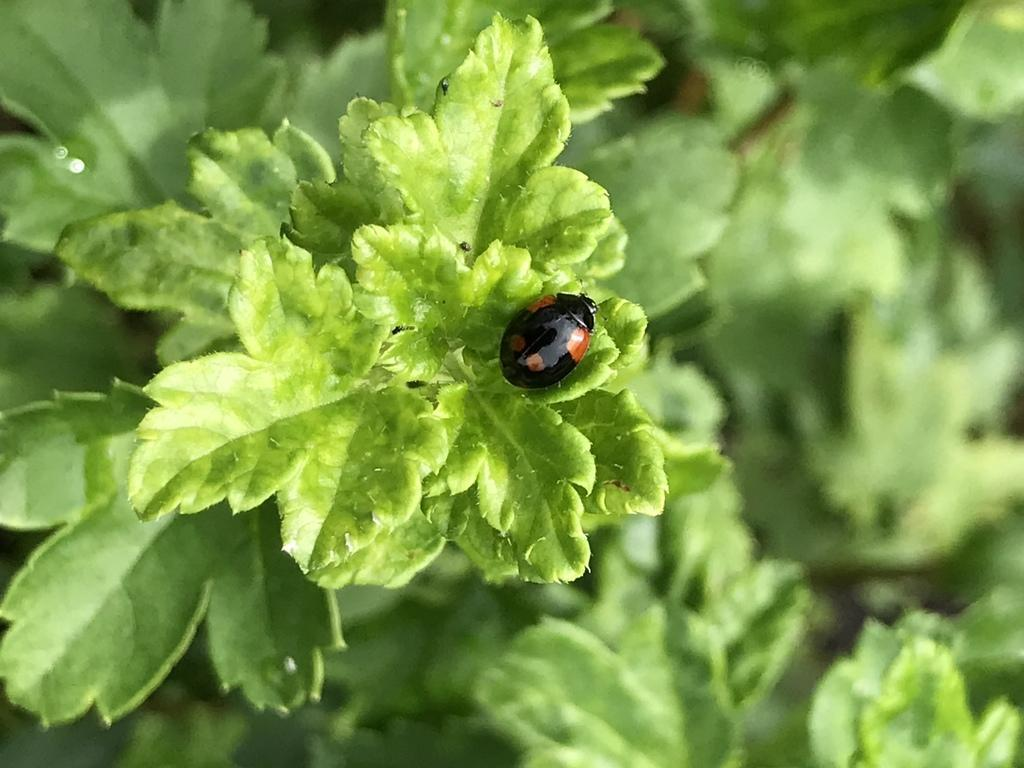ladybug: (497, 287, 603, 395)
